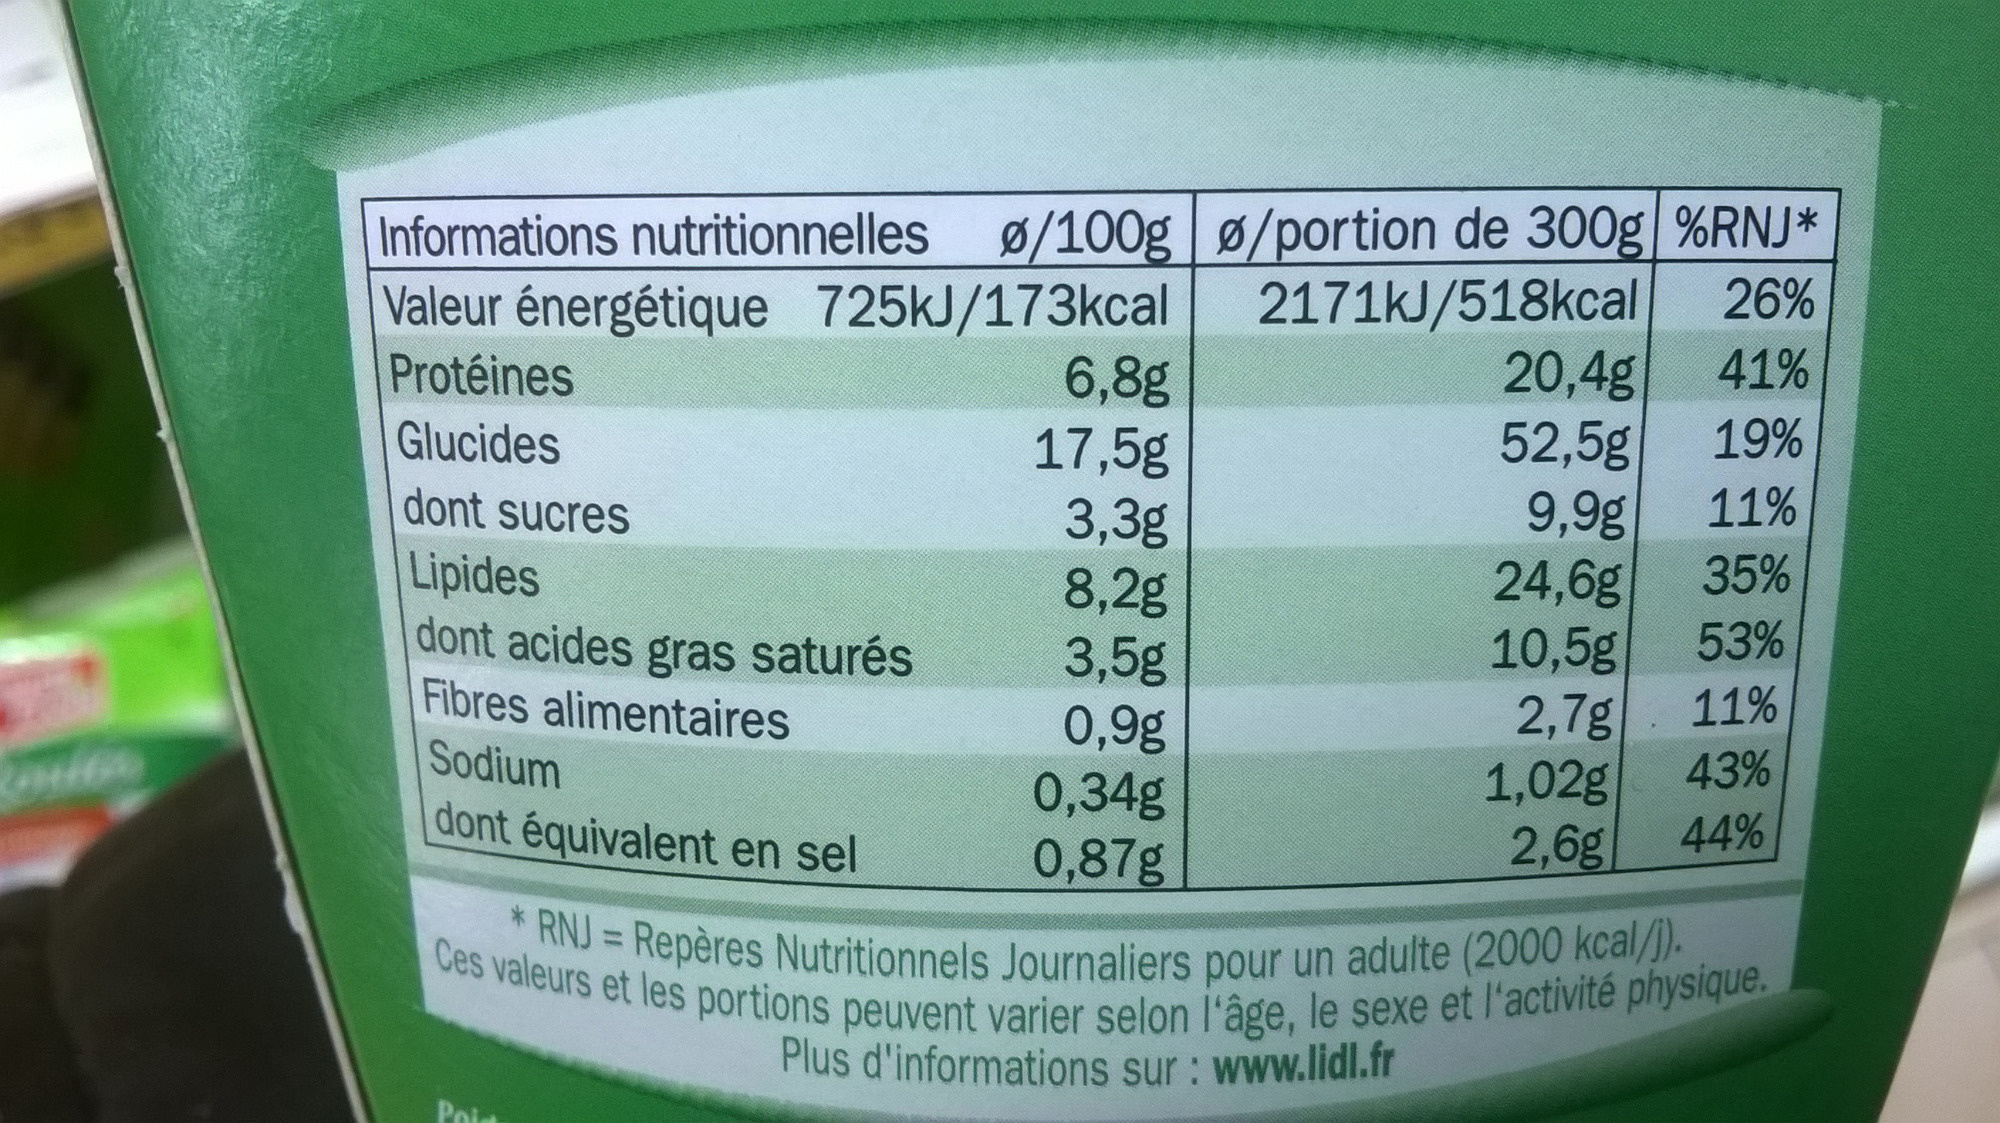column: (380, 189, 1174, 881), (1218, 195, 1635, 877), (1672, 200, 1821, 870)
table: (357, 189, 1852, 883)
